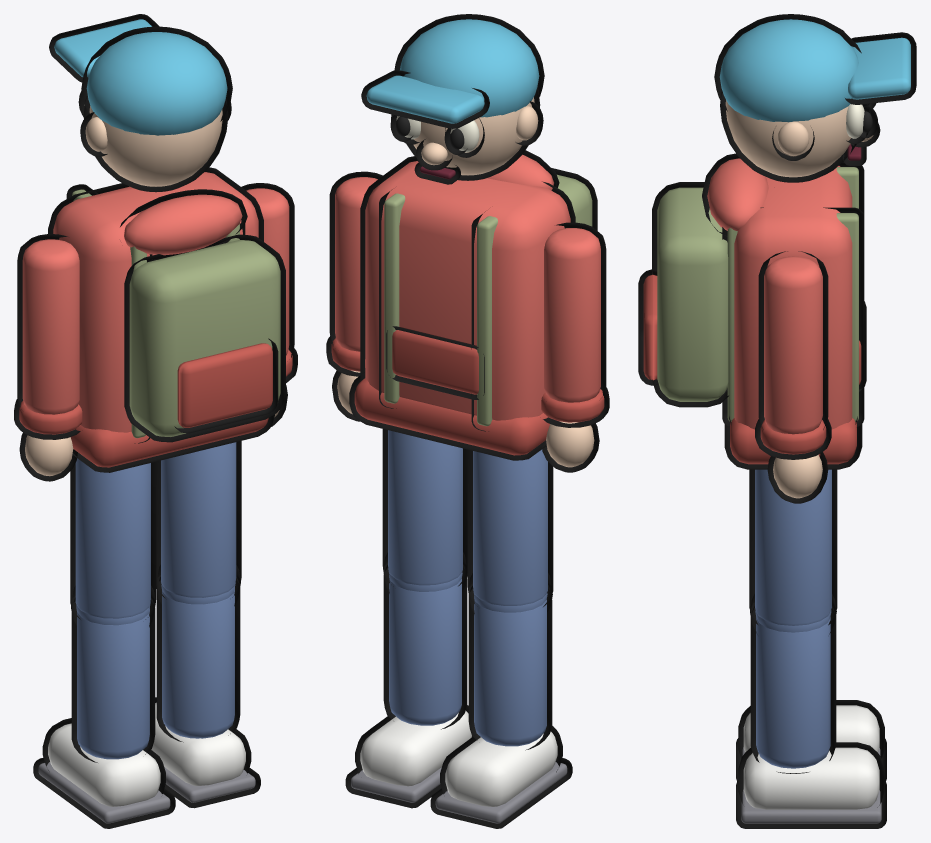
The model's file is player_model.glb.
3 renders of one model, left to right at view 1: azimuth 30°, elevation 25°; view 2: azimuth 150°, elevation 25°; view 3: azimuth 270°, elevation 25°, orthographic.
Parts seen in each view (by area): view 1: Torso, Head, ArmL, LegL, LegR, ShinL, ShinR, FootL, FootR, ArmR; view 2: Torso, Head, ArmL, LegL, LegR, ShinL, ShinR, FootL, FootR, ArmR; view 3: Torso, Head, ArmR, ShinR, LegR, FootR, FootL.
Part boxes in pixels (x1,y1,x2,y2): Torso: [48, 167, 285, 472]; Head: [49, 14, 232, 192]; ArmL: [14, 234, 82, 481]; LegL: [70, 458, 156, 619]; LegR: [156, 441, 241, 599]; ShinL: [71, 585, 155, 762]; ShinR: [156, 564, 240, 742]; FootL: [33, 718, 175, 828]; FootR: [151, 697, 260, 808]; ArmR: [241, 183, 297, 426]; Torso: [349, 150, 597, 460]; Head: [361, 14, 544, 184]; ArmL: [541, 222, 609, 472]; LegL: [467, 449, 553, 606]; LegR: [382, 429, 467, 586]; ShinL: [468, 573, 552, 750]; ShinR: [383, 552, 467, 729]; FootL: [430, 726, 572, 828]; FootR: [345, 705, 472, 808]; ArmR: [326, 171, 382, 421]; Torso: [638, 153, 866, 469]; Head: [714, 14, 916, 182]; ArmR: [755, 251, 831, 503]; ShinR: [750, 593, 836, 773]; LegR: [749, 469, 837, 625]; FootR: [736, 742, 886, 828]; FootL: [736, 700, 886, 781].
Size of the model in its own units: 0.7088 by 1.87 by 0.6134.
